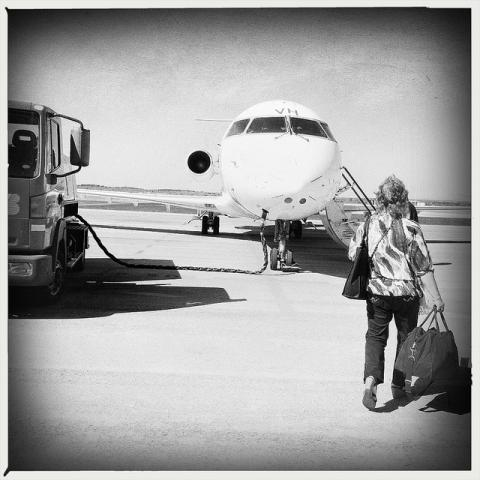truck: (8, 99, 92, 308)
